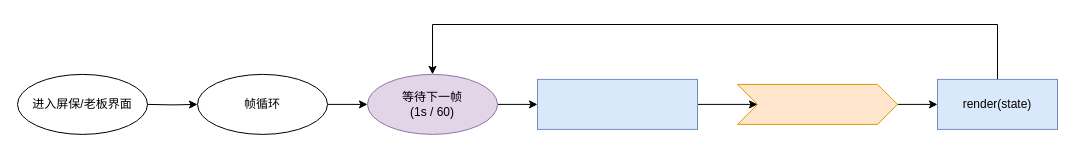
The diagram is 1075 pixels wide and 152 high, and some of its shapes have lost their labels. The shapes that lost their labels are listed below. From the top down, each one's box as (x1, y1, x2, y2) in pixels, then its label:
(536, 78, 698, 129): update(state)
(736, 83, 898, 124): 脚本逻辑
